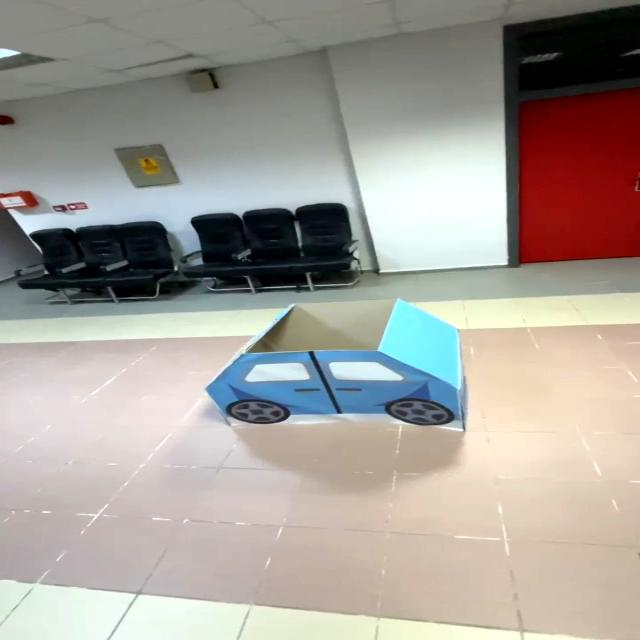blue_car: (164, 274, 491, 455)
